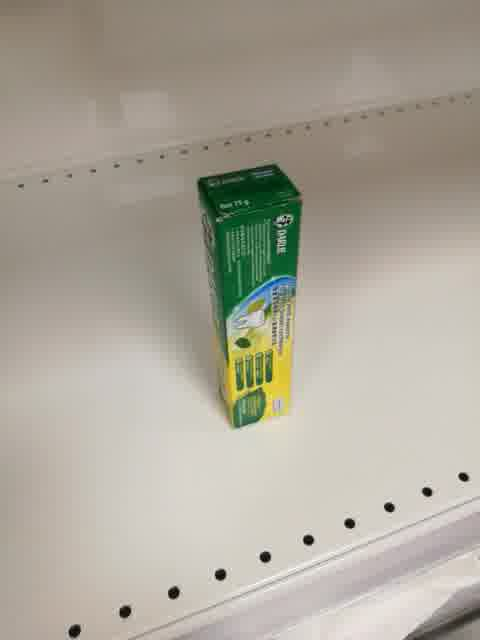toothpaste: (196, 163, 302, 429)
